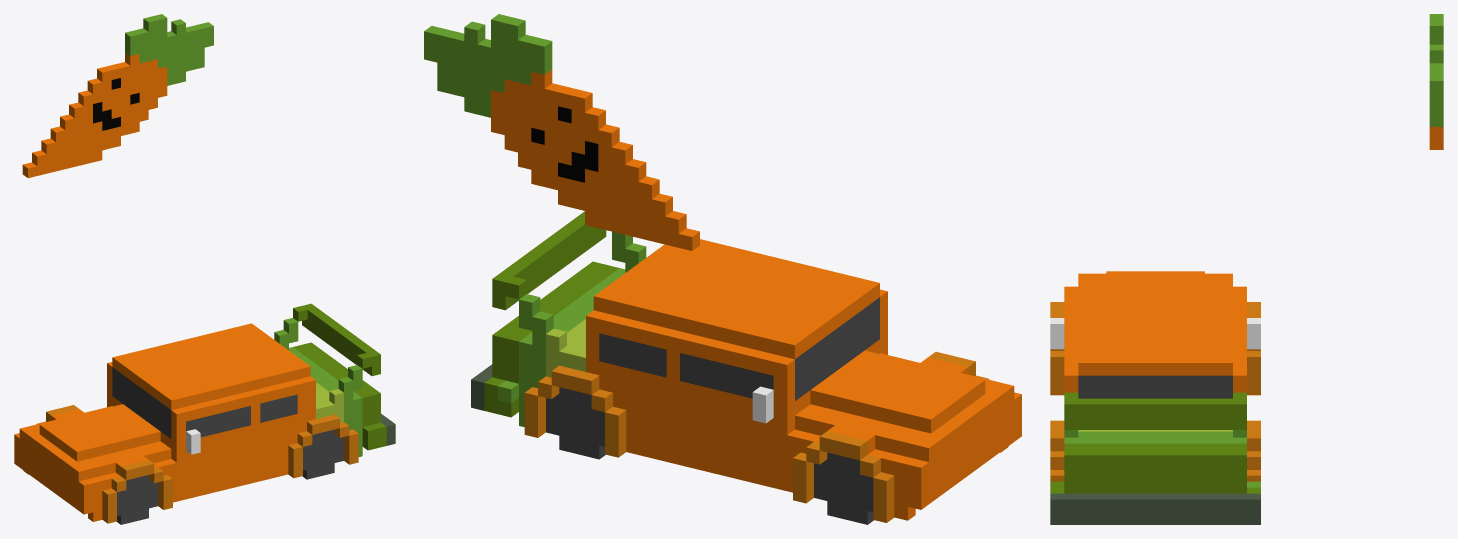
Rendered from car_03.glb.
3 views of the same model, side by side, from view 1: azimuth 30°, elevation 25°; view 2: azimuth 150°, elevation 25°; view 3: azimuth 270°, elevation 25° (orthographic). The views are drawn at different scales.
Visible parts, largest first — view 1: ObjObject.001; view 2: ObjObject.001; view 3: ObjObject.001.
Boxes of the visible parts, bbox=[...] form: ObjObject.001: bbox=[14, 14, 395, 524]; ObjObject.001: bbox=[424, 14, 1021, 524]; ObjObject.001: bbox=[1050, 14, 1443, 524].
Size of the model in its own units: 3.3 by 3.7 by 2.8.
Materials: 1 (1 with a texture image).
